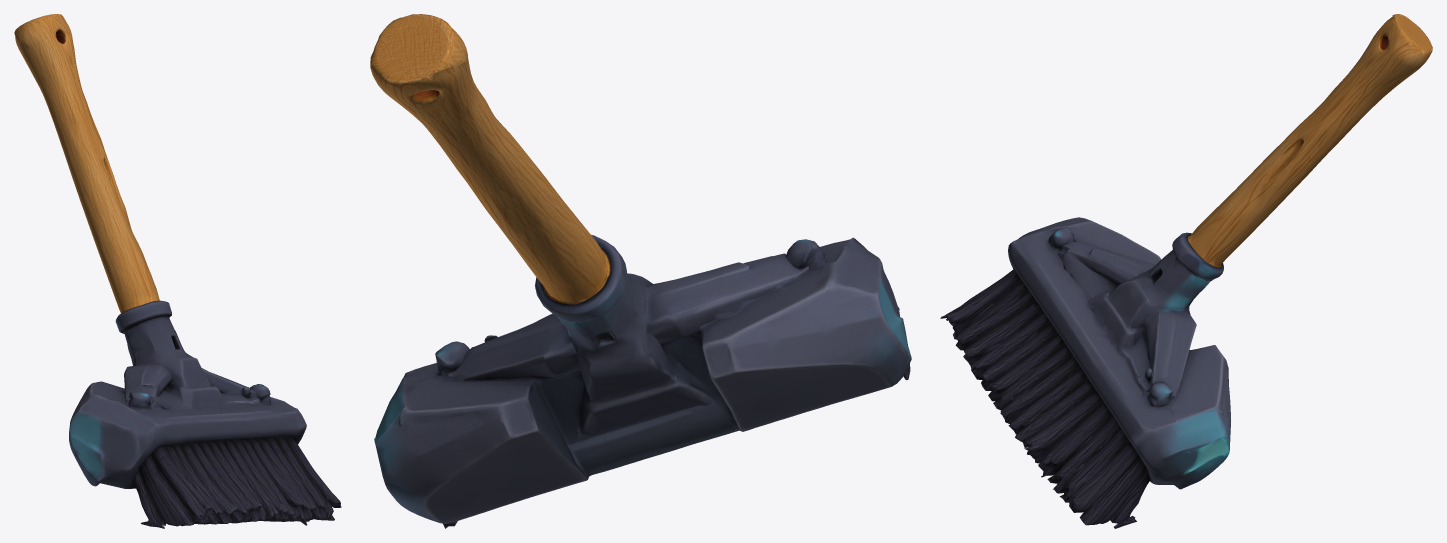
The model's file is street_sweeper.glb.
The picture shows the model from 3 angles, left to right: view 1: azimuth 30°, elevation 25°; view 2: azimuth 150°, elevation 25°; view 3: azimuth 270°, elevation 25°; orthographic projection. The views are drawn at different scales.
Visible parts, largest first — view 1: tripo_node_da42aa55-c2b7-46a3-9b54-b764a78f11c4; view 2: tripo_node_da42aa55-c2b7-46a3-9b54-b764a78f11c4; view 3: tripo_node_da42aa55-c2b7-46a3-9b54-b764a78f11c4.
Boxes of the visible parts, bbox=[...] form: tripo_node_da42aa55-c2b7-46a3-9b54-b764a78f11c4: bbox=[14, 14, 341, 528]; tripo_node_da42aa55-c2b7-46a3-9b54-b764a78f11c4: bbox=[370, 14, 911, 528]; tripo_node_da42aa55-c2b7-46a3-9b54-b764a78f11c4: bbox=[940, 14, 1432, 528].
Size of the model in its own units: 0.6369 by 0.9795 by 0.9756.
Materials: 1 (1 with a texture image).
